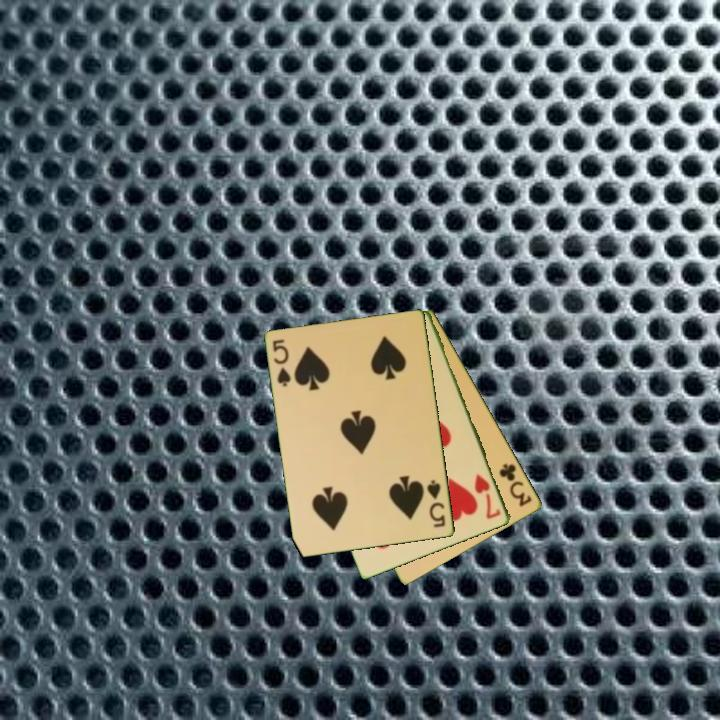3c: (496, 459, 535, 510)
5s: (269, 336, 294, 390), (424, 477, 448, 531)
7h: (471, 470, 504, 522)
